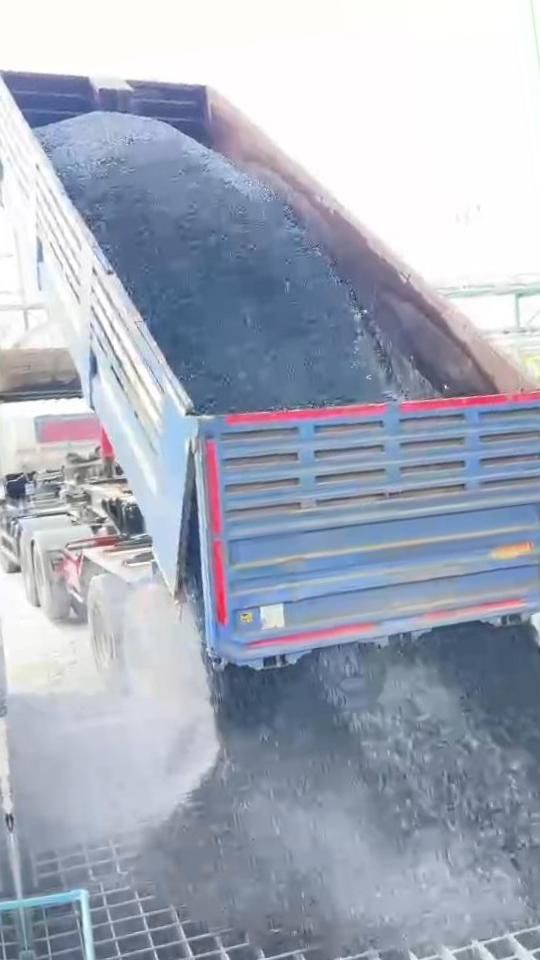gravel: (144, 625, 540, 954), (37, 112, 431, 412)
